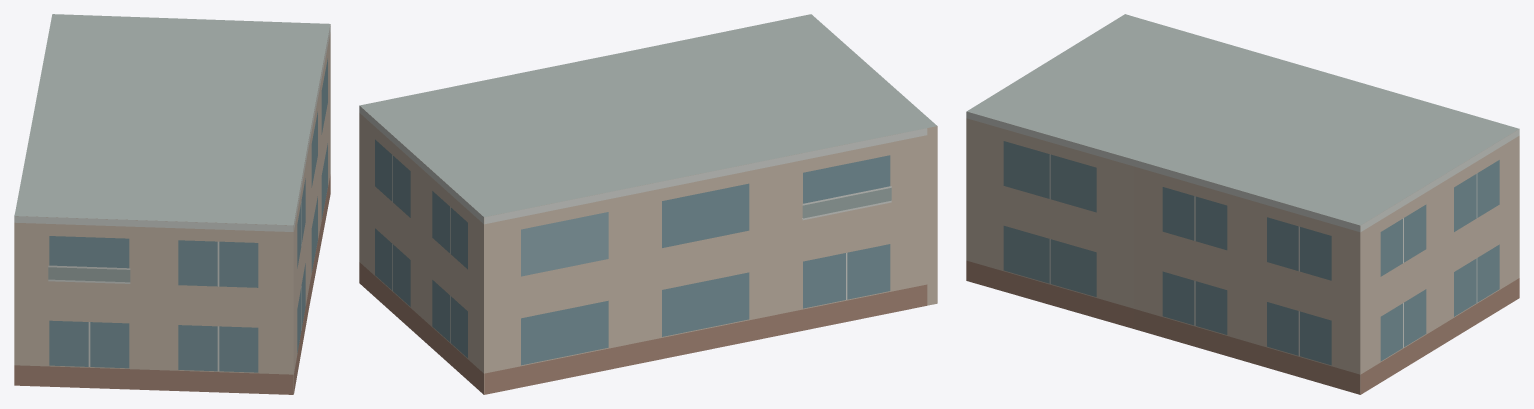
The model's file is survey-upis-32699842.glb.
3 views of the same model, side by side, from view 1: azimuth 30°, elevation 25°; view 2: azimuth 150°, elevation 25°; view 3: azimuth 270°, elevation 25° (orthographic). The views are drawn at different scales.
Parts seen in each view (by area): view 1: survey-upis-32699842.tmp; view 2: survey-upis-32699842.tmp; view 3: survey-upis-32699842.tmp.
Boxes of the visible parts, x1,y1,x2,y2 form: survey-upis-32699842.tmp: (14,14,330,394); survey-upis-32699842.tmp: (359,14,937,394); survey-upis-32699842.tmp: (966,14,1519,394).
Bounding box in the file's own units: 16.35 × 6.1 × 18.07.
